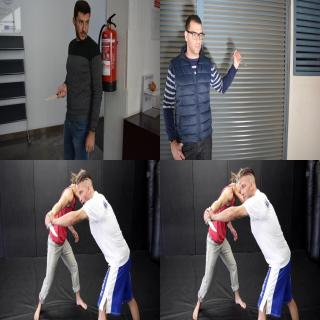knife: (43, 215, 59, 239), (202, 211, 218, 234), (231, 52, 247, 66), (44, 91, 60, 101)
